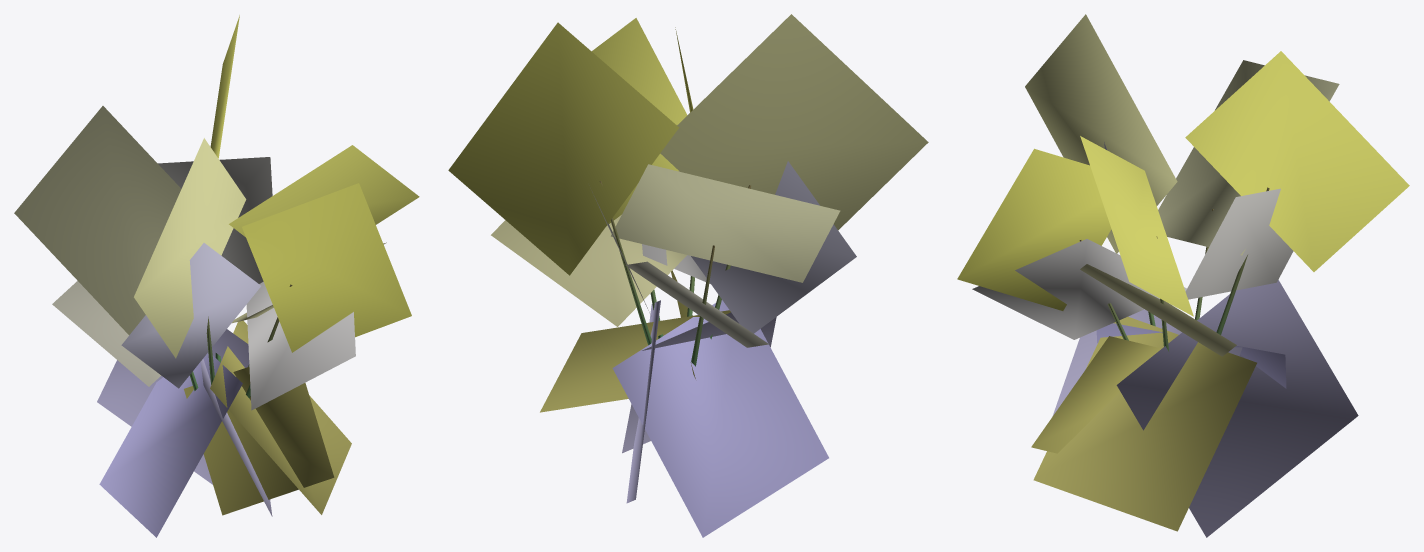
Rendered from bush_lod1.glb.
The picture shows the model from 3 angles, left to right: view 1: azimuth 30°, elevation 25°; view 2: azimuth 150°, elevation 25°; view 3: azimuth 270°, elevation 25°; orthographic projection. The views are drawn at different scales.
Visible parts, largest first — view 1: bush_cards.001_lod1, bush_bark.001_lod1; view 2: bush_cards.001_lod1, bush_bark.001_lod1; view 3: bush_cards.001_lod1, bush_bark.001_lod1.
Part boxes in pixels (<box>): bush_cards.001_lod1: <box>14,15,419,537</box>; bush_bark.001_lod1: <box>189,284,292,398</box>; bush_cards.001_lod1: <box>448,14,928,537</box>; bush_bark.001_lod1: <box>599,181,750,366</box>; bush_cards.001_lod1: <box>957,14,1409,537</box>; bush_bark.001_lod1: <box>1079,187,1269,351</box>.
Bounding box in the file's own units: 3.9 × 4.87 × 3.97.
